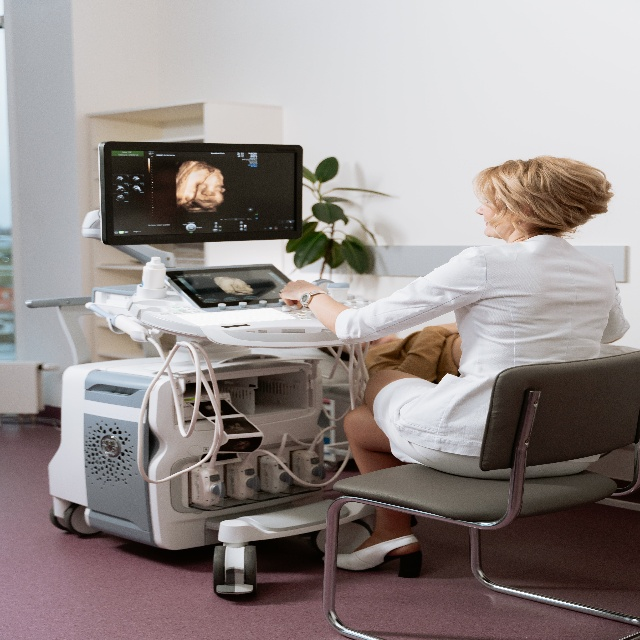Sin_guantes: (279, 278, 317, 316)
